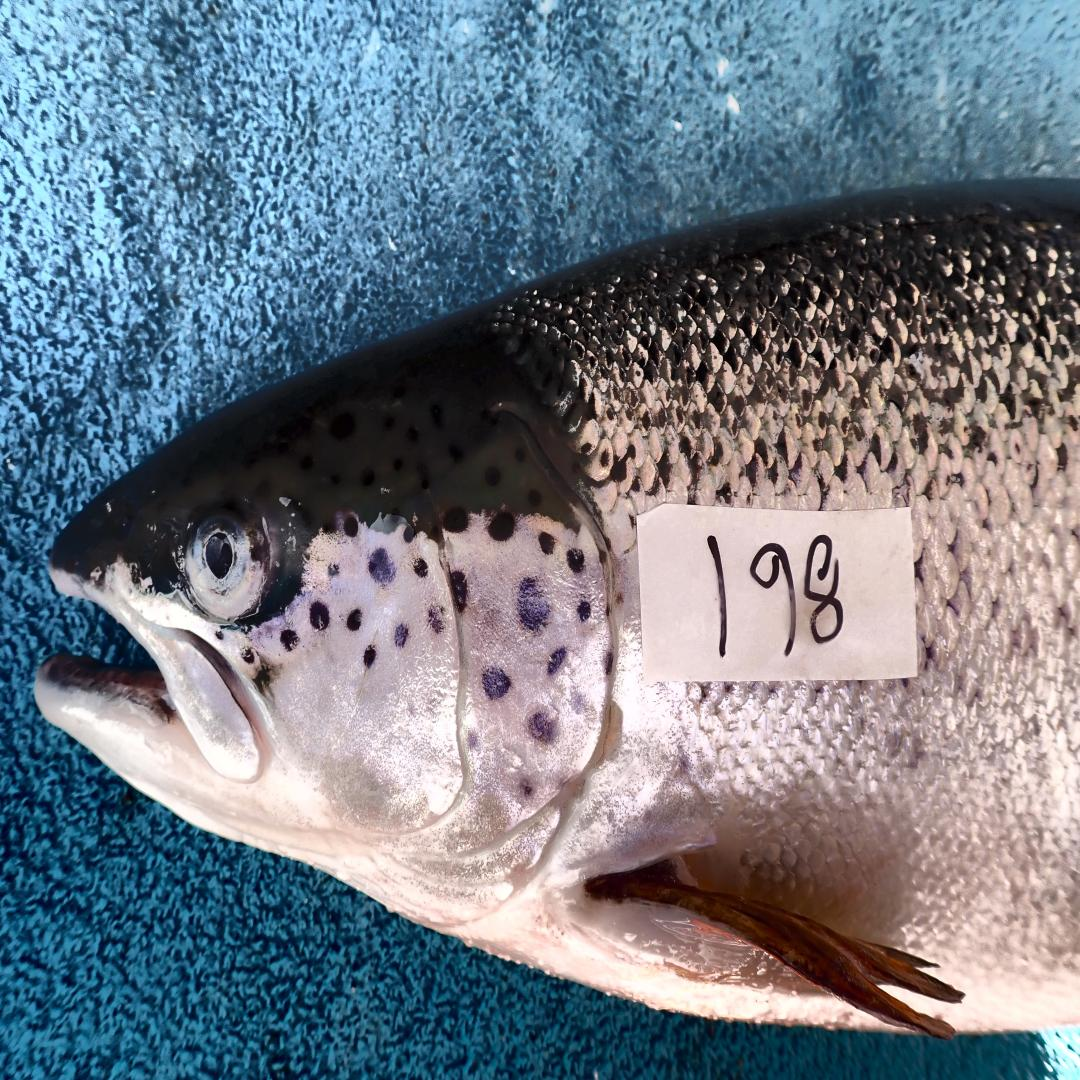spot: (517, 577, 551, 633), (369, 548, 397, 585), (481, 667, 510, 700), (487, 512, 515, 543), (529, 712, 555, 742), (449, 571, 468, 610), (443, 506, 468, 532), (546, 647, 567, 675), (310, 602, 329, 630), (428, 605, 445, 633), (567, 548, 584, 574), (281, 627, 300, 650), (538, 532, 555, 554), (394, 624, 409, 647), (346, 610, 363, 630), (413, 557, 428, 577), (401, 524, 415, 545), (344, 518, 359, 537), (326, 560, 341, 579), (363, 647, 375, 669), (578, 602, 591, 622), (601, 654, 613, 675), (241, 647, 254, 664), (521, 782, 532, 798)
